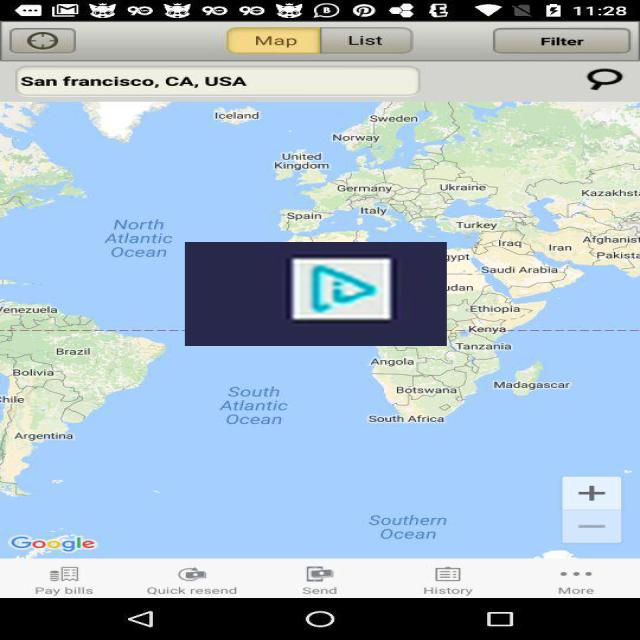sneaking: (185, 242, 447, 346)
